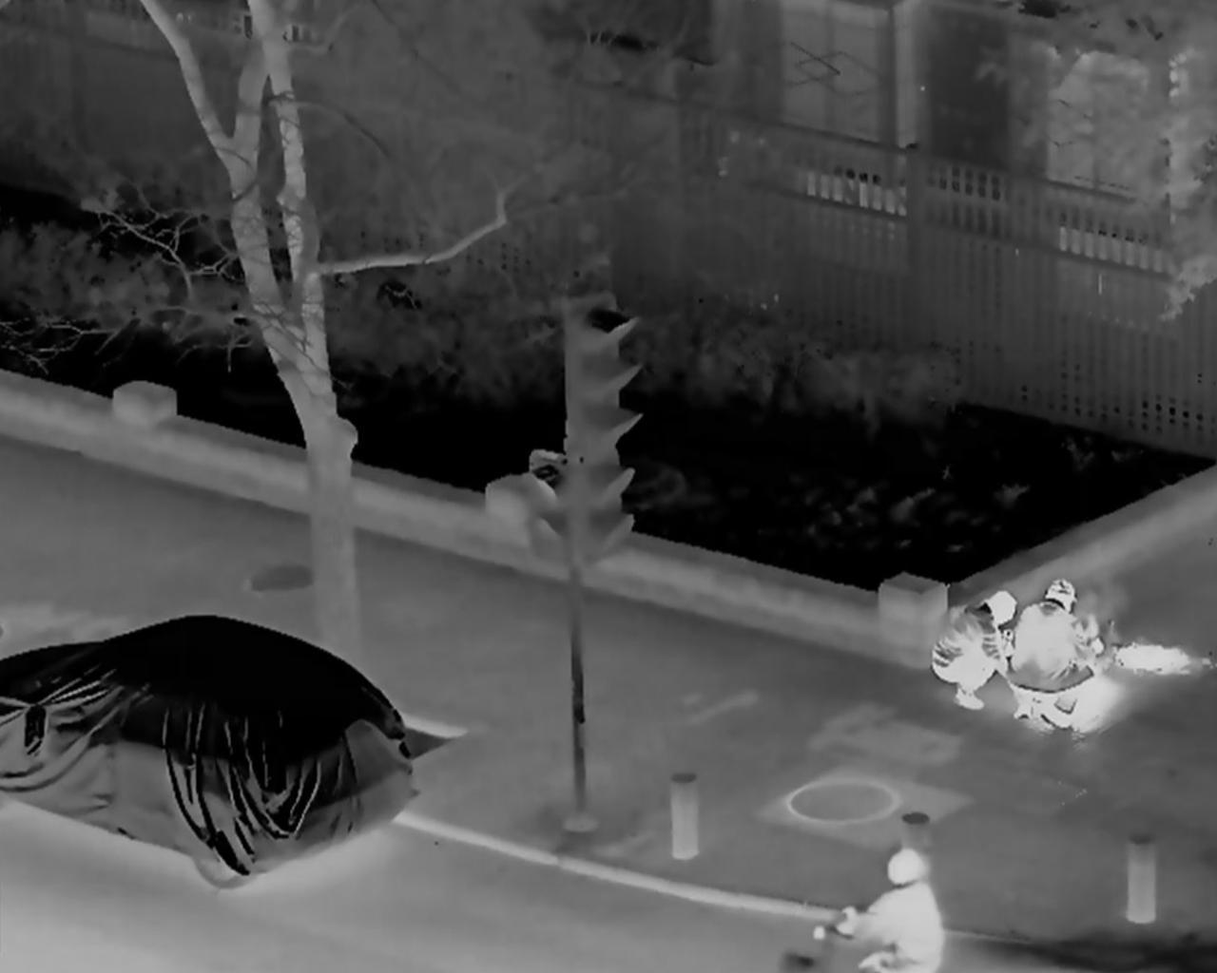person: (836, 850, 945, 973), (1016, 579, 1100, 731), (936, 586, 1009, 710)
